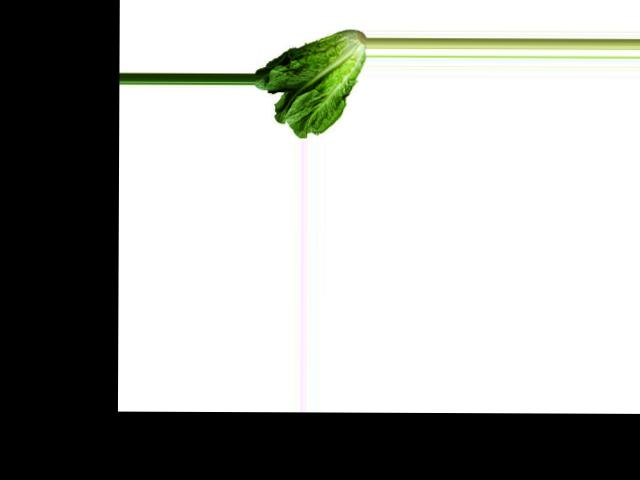lettuce: (257, 28, 365, 139)
